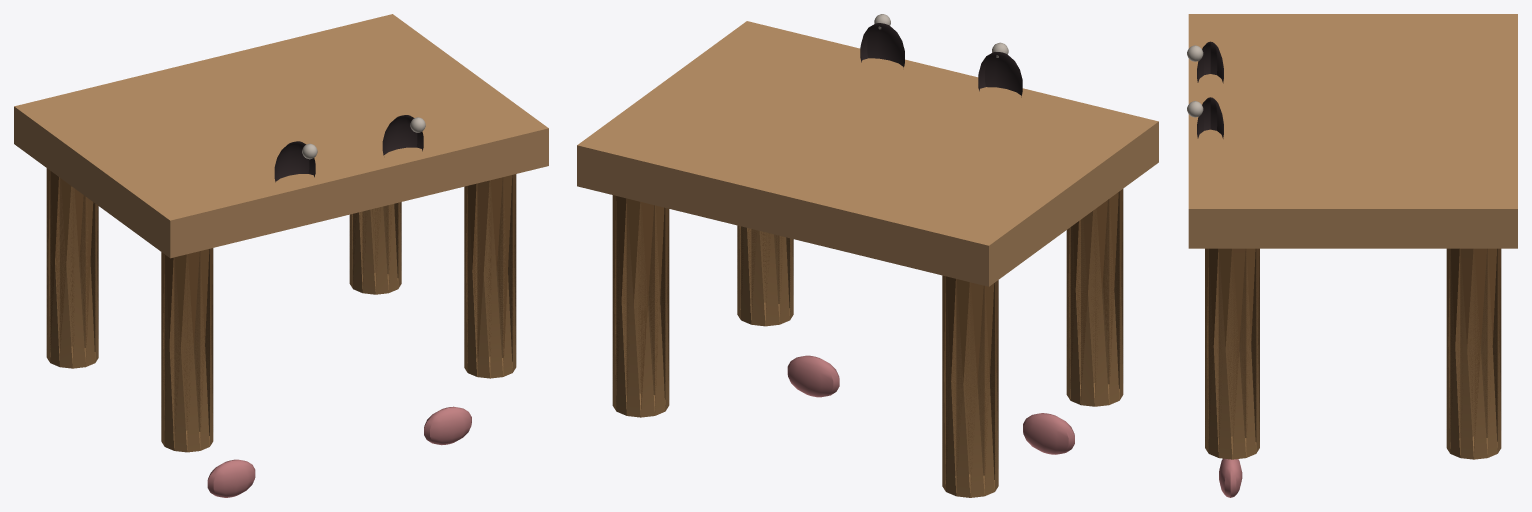
3 renders of one model, left to right at view 1: azimuth 30°, elevation 25°; view 2: azimuth 150°, elevation 25°; view 3: azimuth 270°, elevation 25°, orthographic. The views are drawn at different scales.
Parts seen in each view (by area): view 1: pet_p463b09ec; view 2: pet_p463b09ec; view 3: pet_p463b09ec.
Part boxes in pixels (left/top/right/bottom): pet_p463b09ec: left=14, top=14, right=548, bottom=497; pet_p463b09ec: left=577, top=14, right=1158, bottom=497; pet_p463b09ec: left=1187, top=14, right=1517, bottom=497.
Size of the model in its own units: 0.42 by 0.3704 by 0.3014.
